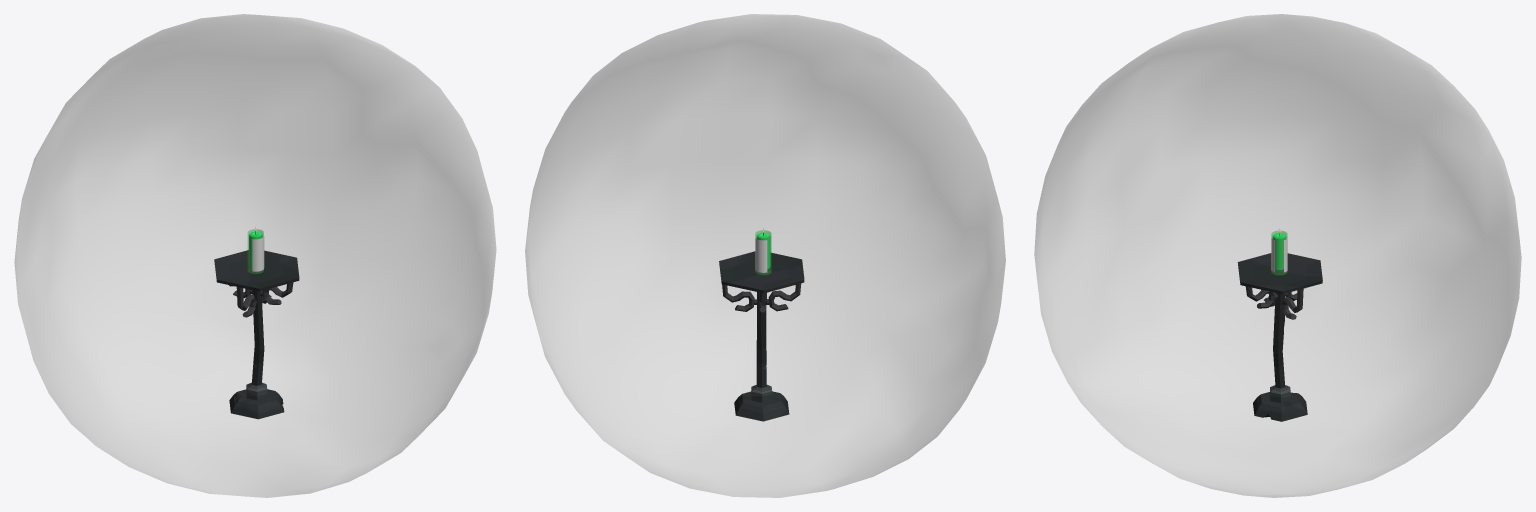
File: votiveComplete.glb
3 views of the same model, side by side, from view 1: azimuth 30°, elevation 25°; view 2: azimuth 150°, elevation 25°; view 3: azimuth 270°, elevation 25° (orthographic).
Visible parts, largest first — view 1: Room, Candle_Stand; view 2: Room, Candle_Stand; view 3: Room, Candle_Stand.
Part boxes in pixels (x1,y1,x2,y2): Room: [14, 14, 496, 497]; Candle_Stand: [214, 250, 299, 419]; Room: [525, 14, 1005, 497]; Candle_Stand: [719, 251, 804, 421]; Room: [1034, 14, 1521, 497]; Candle_Stand: [1237, 253, 1322, 421].
Size of the model in its own units: 24.95 by 24.43 by 24.95.
6 materials, 3 textured.
